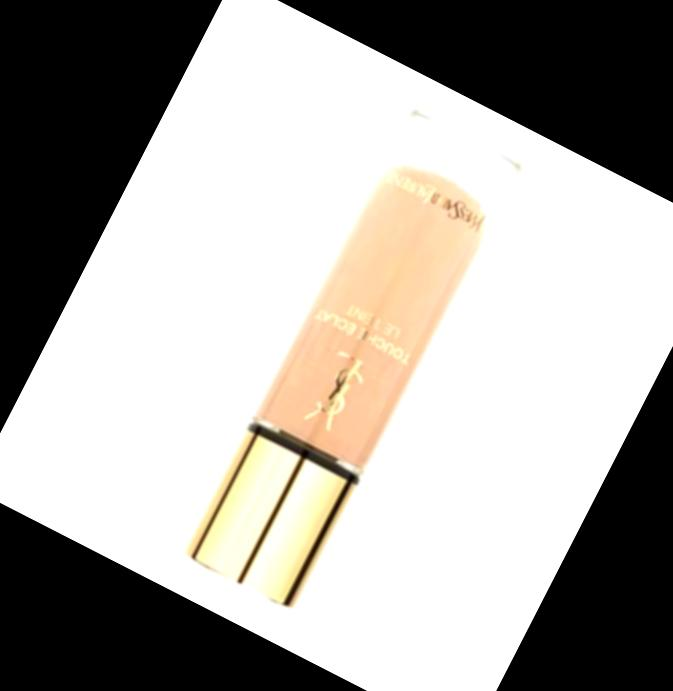cosmetic: (174, 95, 529, 616)
